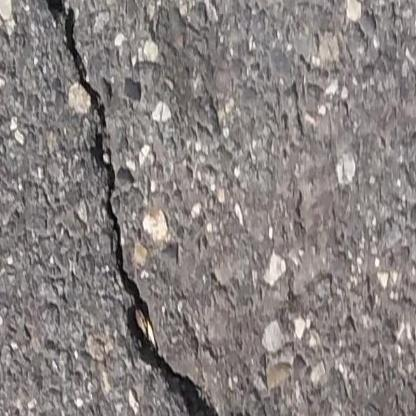Cracks: (41, 0, 229, 416)
